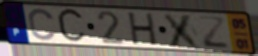2: (96, 10, 127, 45)
C: (56, 7, 88, 46), (27, 7, 59, 42)
H: (127, 12, 159, 47)
X: (161, 13, 204, 50)
Z: (197, 14, 231, 50)
